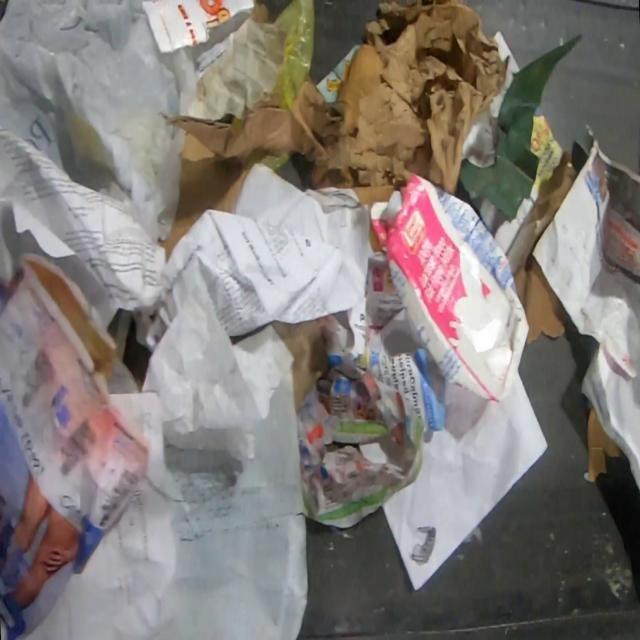cardboard: (158, 40, 386, 262), (367, 172, 529, 404), (458, 31, 584, 222), (506, 147, 578, 347), (141, 0, 256, 52), (270, 318, 329, 412), (583, 406, 628, 484), (250, 0, 273, 24)
soft_plastic: (0, 0, 253, 247), (265, 0, 317, 112), (239, 149, 294, 176)
